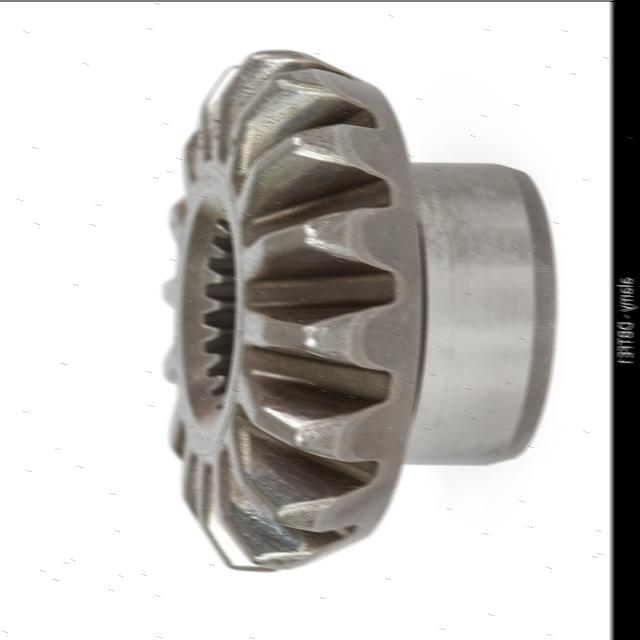Gear: (157, 45, 556, 572)
